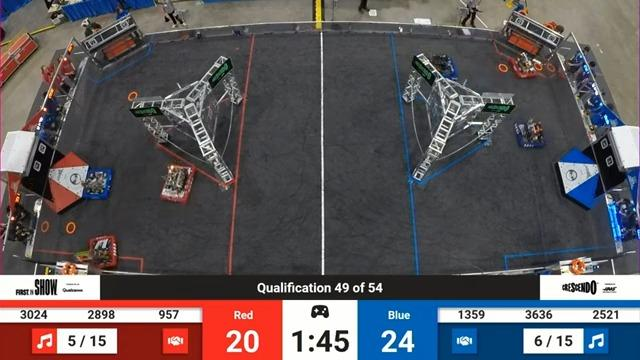robot: (154, 159, 198, 210), (76, 232, 133, 271), (508, 111, 551, 155), (76, 166, 120, 203), (503, 48, 543, 80)
